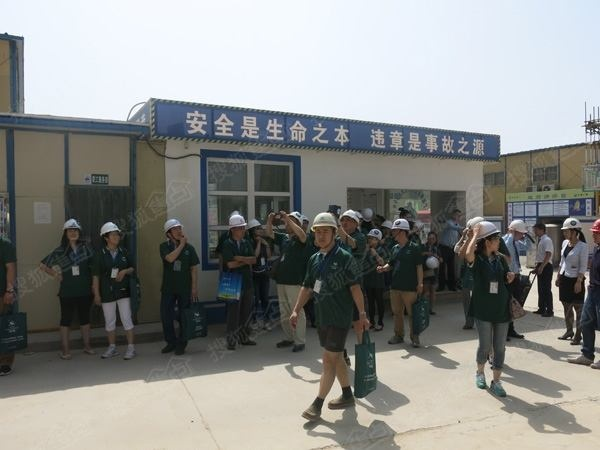none: (532, 219, 546, 238), (449, 206, 462, 223), (426, 229, 437, 246)
white: (309, 210, 339, 250), (472, 217, 500, 254), (161, 216, 185, 244), (337, 207, 360, 234), (506, 216, 528, 243), (99, 219, 120, 247), (61, 217, 82, 244), (282, 208, 303, 235), (559, 216, 580, 242), (226, 213, 246, 240), (390, 217, 409, 243), (244, 216, 263, 238), (366, 227, 382, 246)
